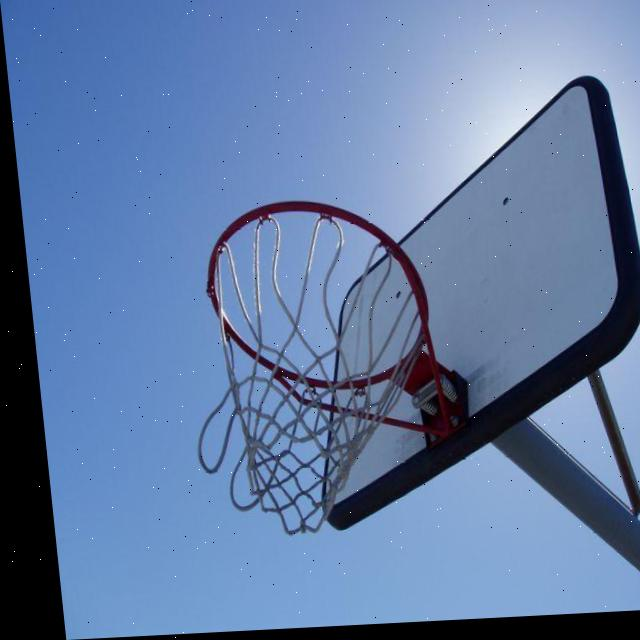hoop: (178, 197, 450, 539)
